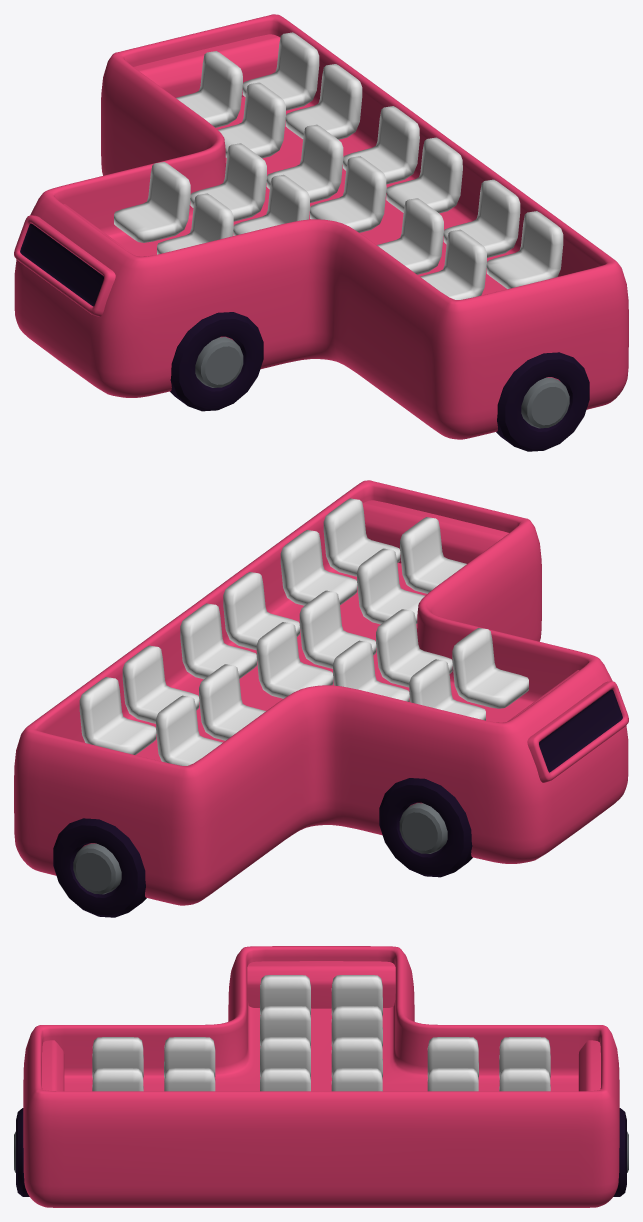
The model's file is car_T_1.fbx.
3 views of the same model, one above another, from view 1: azimuth 30°, elevation 25°; view 2: azimuth 150°, elevation 25°; view 3: azimuth 270°, elevation 25° (orthographic). The views are drawn at different scales.
Parts seen in each view (by area): view 1: Cube.095, Cube.102, Cube.052, Cylinder.012, Cylinder.013, Cube.100; view 2: Cube.095, Cube.102, Cube.052, Cylinder.012, Cylinder.013, Cube.100; view 3: Cube.095, Cube.052, Cube.102, Cylinder.013.
Boxes of the visible parts, x1,y1,x2,y2 form: Cube.095: (14,14,628,439); Cube.102: (176,32,563,299); Cube.052: (114,106,462,254); Cylinder.012: (170,312,263,411); Cylinder.013: (496,352,589,451); Cube.100: (20,223,103,306); Cube.095: (14,480,628,905); Cube.102: (79,498,466,765); Cube.052: (180,572,528,720); Cylinder.012: (379,778,472,877); Cylinder.013: (53,818,146,917); Cube.100: (539,689,622,772); Cube.095: (23,946,619,1207); Cube.052: (260,975,382,1091); Cube.102: (92,1037,550,1091); Cylinder.013: (14,1108,628,1196).
Bounding box in the file's own units: 422 × 173 × 660.
